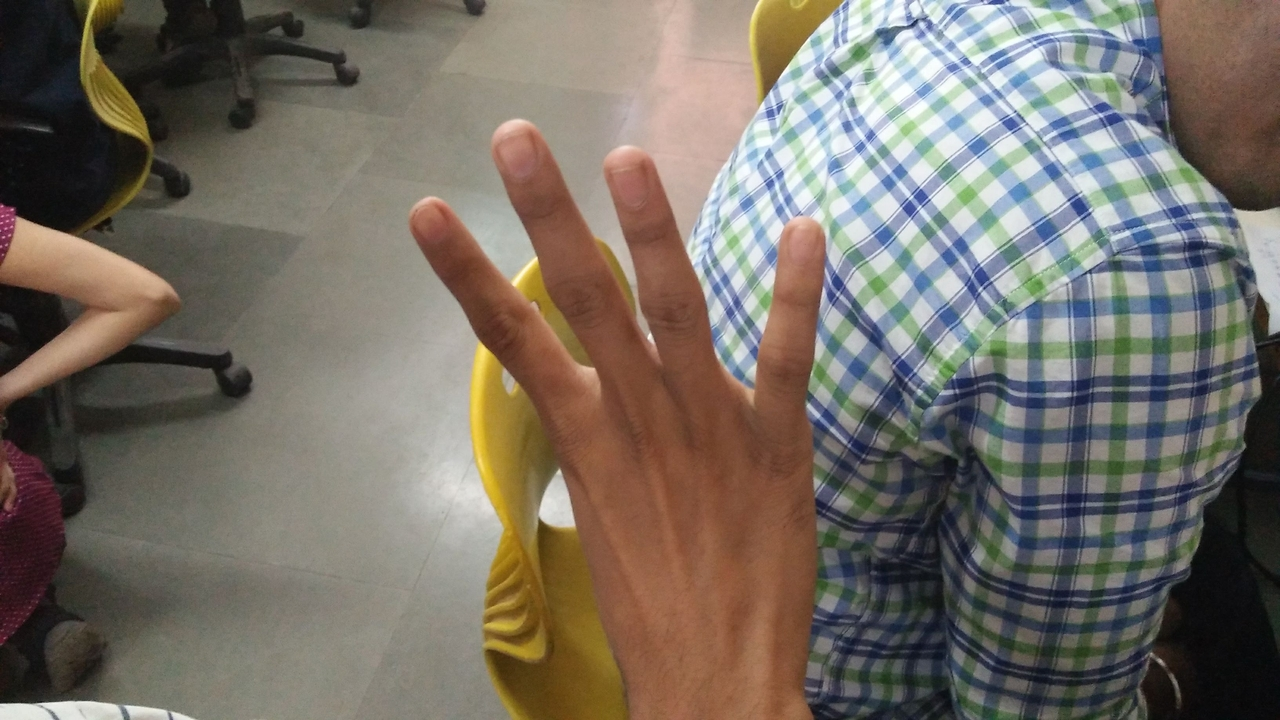fingertip: (592, 136, 664, 198), (482, 118, 550, 180), (398, 188, 464, 250), (776, 208, 832, 276)
